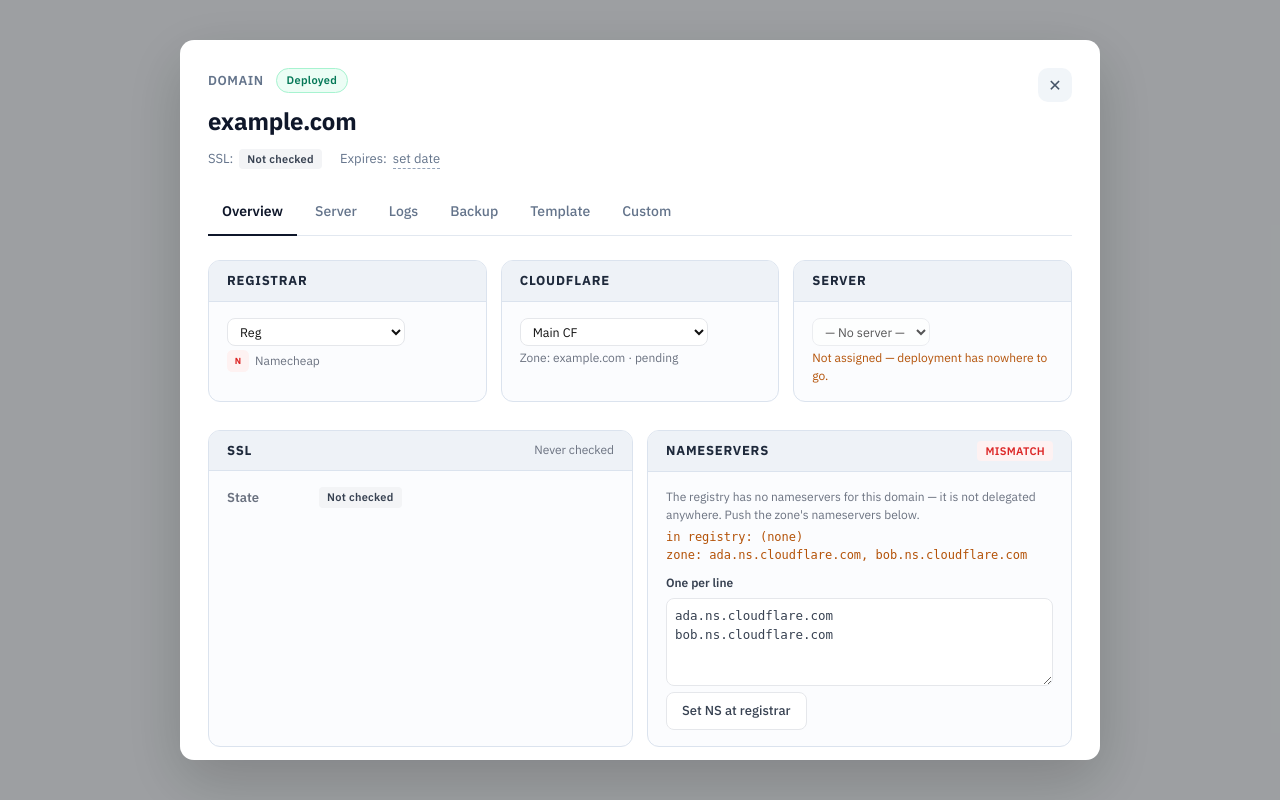
it: Set NS — пустые и ошибочные случаи › показывает отказ, когда команда вернула false
Click the button "Set NS at registrar" at (736, 711), box x1=666 y1=692 x2=806 y2=730
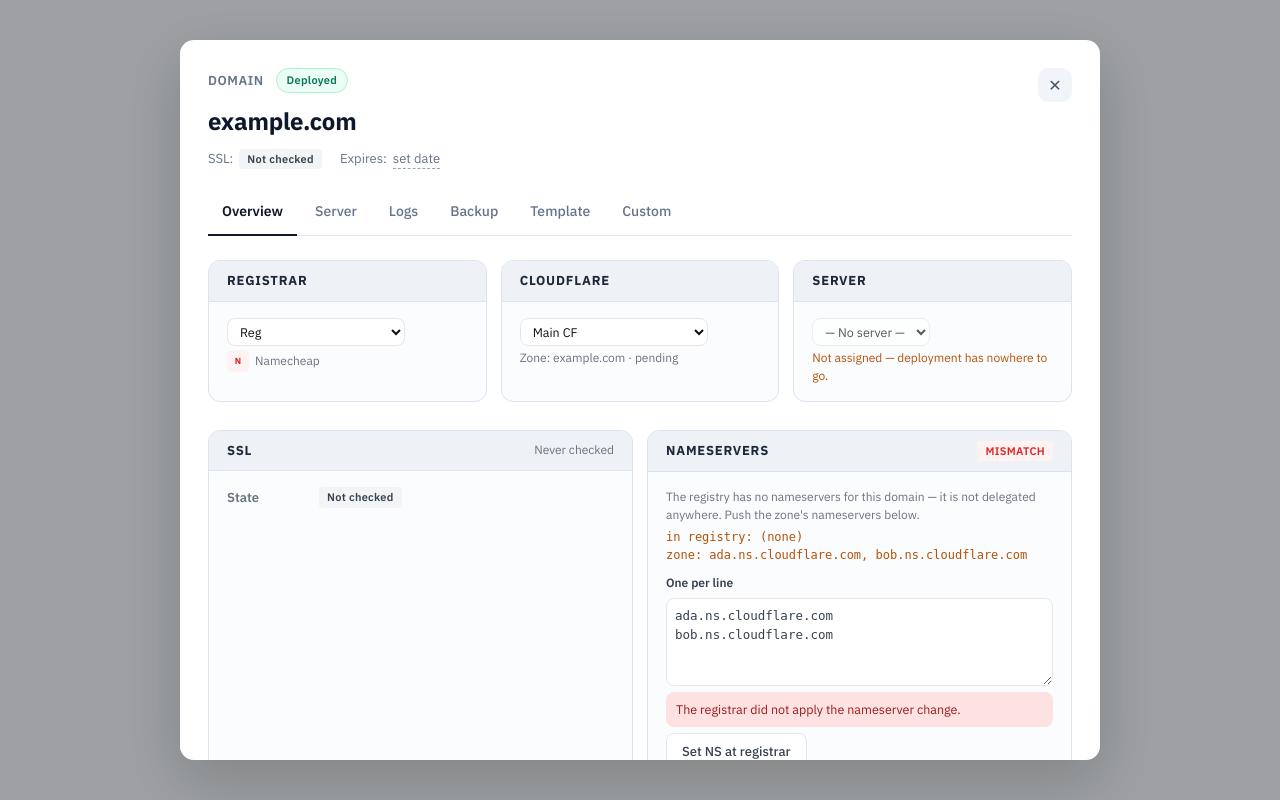
Result: the text "The registrar did not apply the nameserver change." is shown at x1=666 y1=692 x2=1053 y2=727
